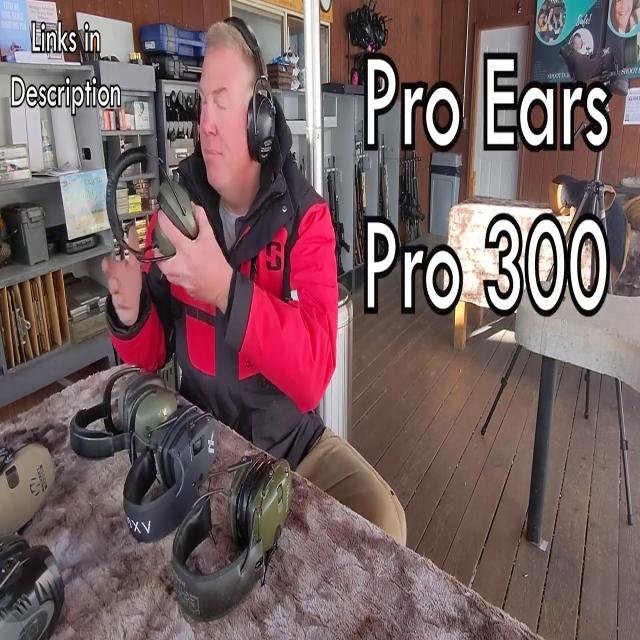earmuff: (0, 433, 56, 538), (240, 454, 294, 558), (165, 406, 217, 491), (228, 444, 266, 550), (124, 385, 179, 458), (158, 402, 200, 491), (154, 172, 203, 245), (118, 364, 166, 430), (245, 82, 278, 174)
